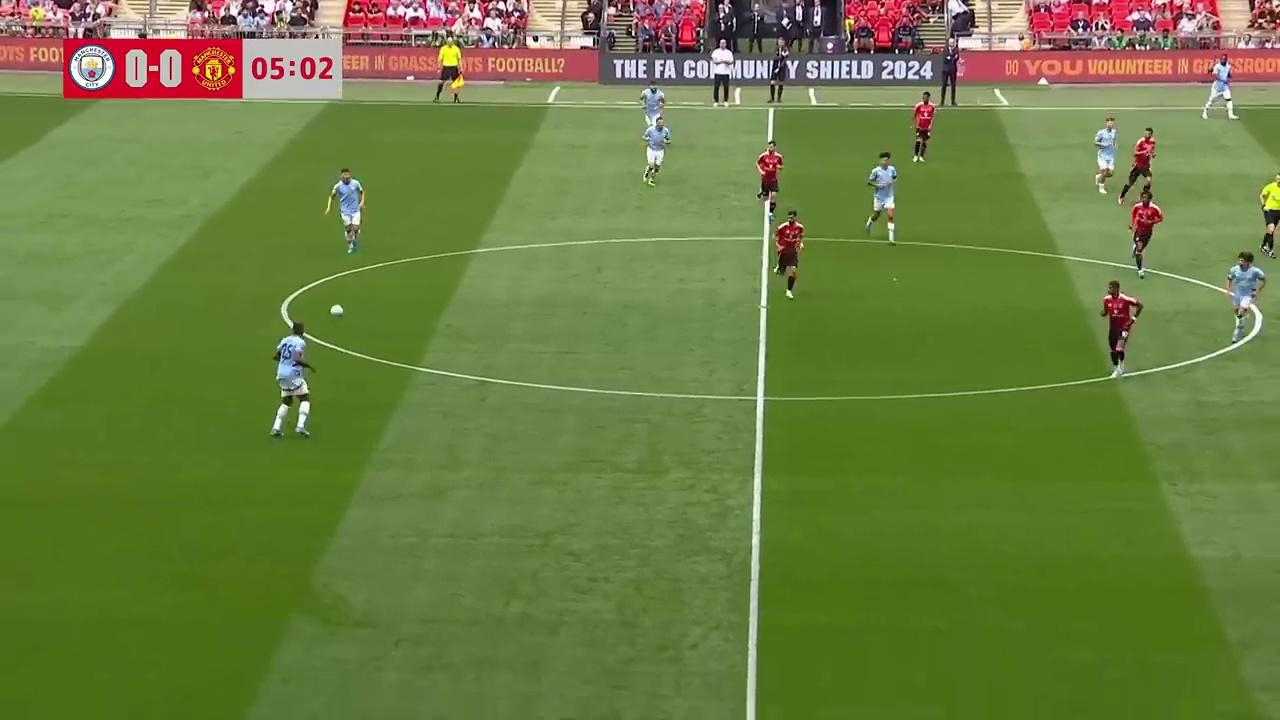ball: (329, 301, 345, 317)
player: (269, 322, 316, 440), (1100, 278, 1141, 379), (1222, 251, 1265, 343), (323, 167, 365, 254), (1127, 187, 1163, 279), (865, 151, 898, 243), (772, 210, 805, 299), (1119, 127, 1156, 199), (756, 141, 783, 218), (1201, 64, 1237, 121), (910, 91, 936, 163), (639, 81, 669, 142), (1093, 117, 1117, 193), (642, 121, 669, 186)
referee: (432, 41, 463, 104), (1259, 174, 1280, 257)
